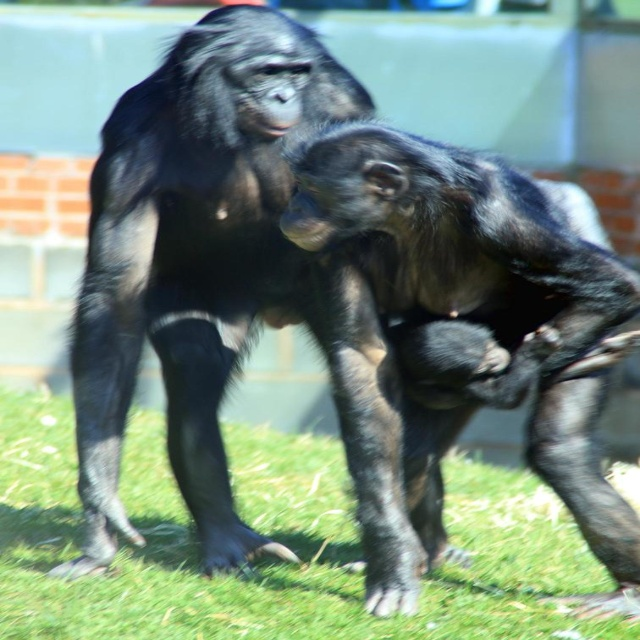Monkey: (63, 8, 618, 620)
